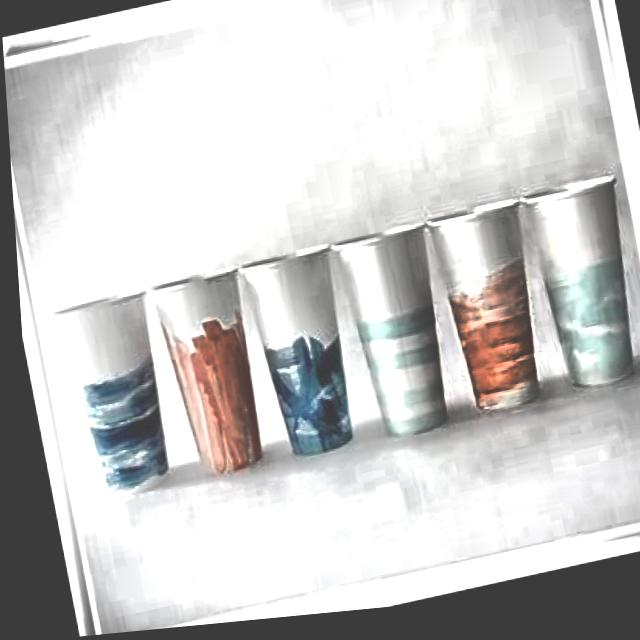Cup: (327, 216, 462, 460), (44, 279, 180, 521), (230, 239, 364, 474), (508, 178, 640, 416), (420, 200, 553, 432), (143, 262, 274, 493)
